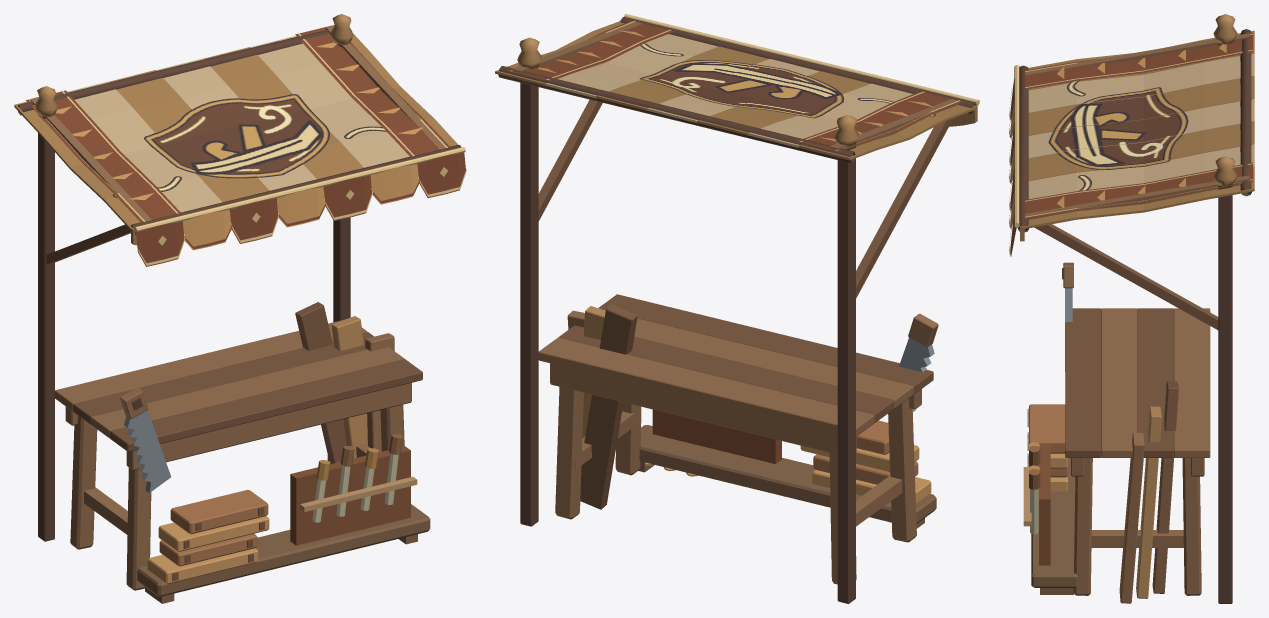
The model's file is stall_carpenter.glb.
3 views of the same model, side by side, from view 1: azimuth 30°, elevation 25°; view 2: azimuth 150°, elevation 25°; view 3: azimuth 270°, elevation 25° (orthographic). The views are drawn at different scales.
Visible parts, largest first — view 1: stall_carpenter; view 2: stall_carpenter; view 3: stall_carpenter.
Boxes of the visible parts, <box> form: stall_carpenter: <box>14,14,466,603</box>; stall_carpenter: <box>495,14,979,603</box>; stall_carpenter: <box>1009,14,1254,603</box>.
Size of the model in its own units: 1.9 by 2.5 by 1.24.
Materials: 11 (1 with a texture image).
